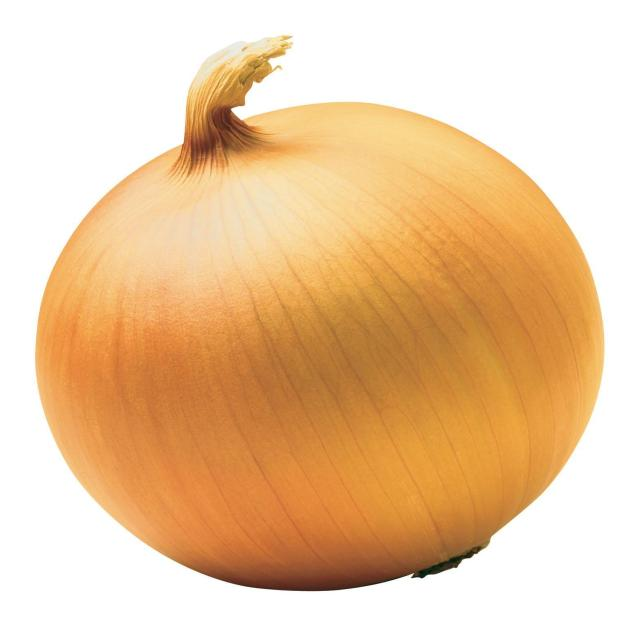Onion: (36, 32, 604, 590)
